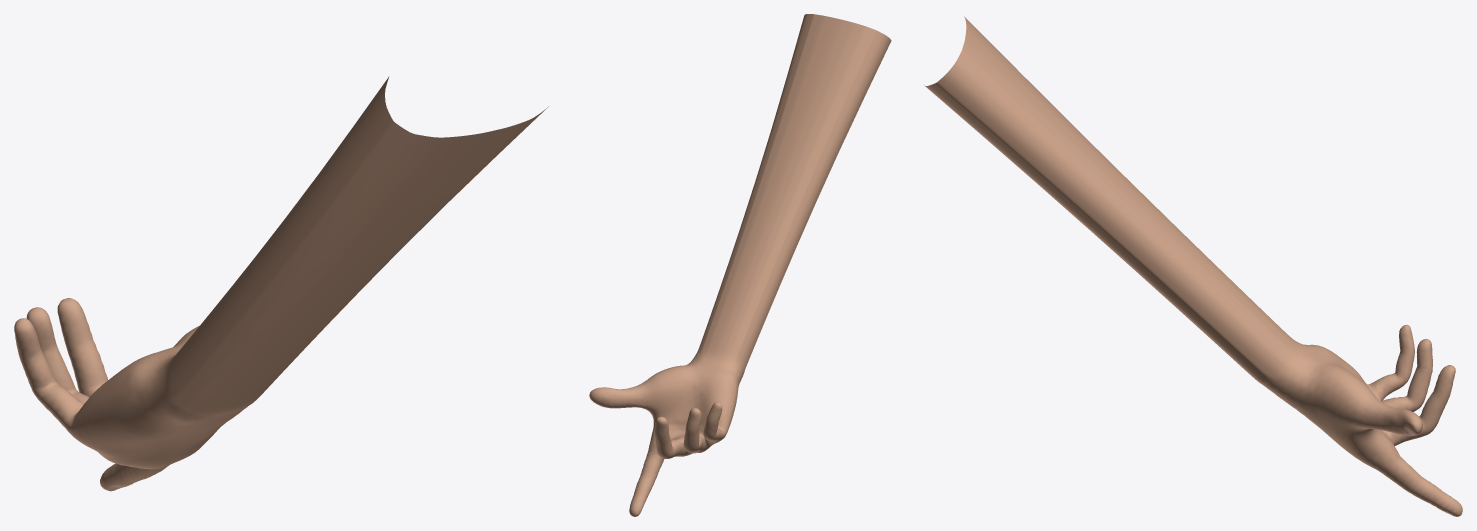
The model's file is hand.glb.
The picture shows the model from 3 angles, left to right: view 1: azimuth 30°, elevation 25°; view 2: azimuth 150°, elevation 25°; view 3: azimuth 270°, elevation 25°; orthographic projection. The views are drawn at different scales.
Visible parts, largest first — view 1: HandSkinExport; view 2: HandSkinExport; view 3: HandSkinExport.
Part boxes in pixels (x1,y1,x2,y2): HandSkinExport: (14, 76, 548, 490); HandSkinExport: (589, 14, 891, 516); HandSkinExport: (924, 16, 1462, 516).
Bounding box in the file's own units: 4.06 × 11.05 × 11.41.
